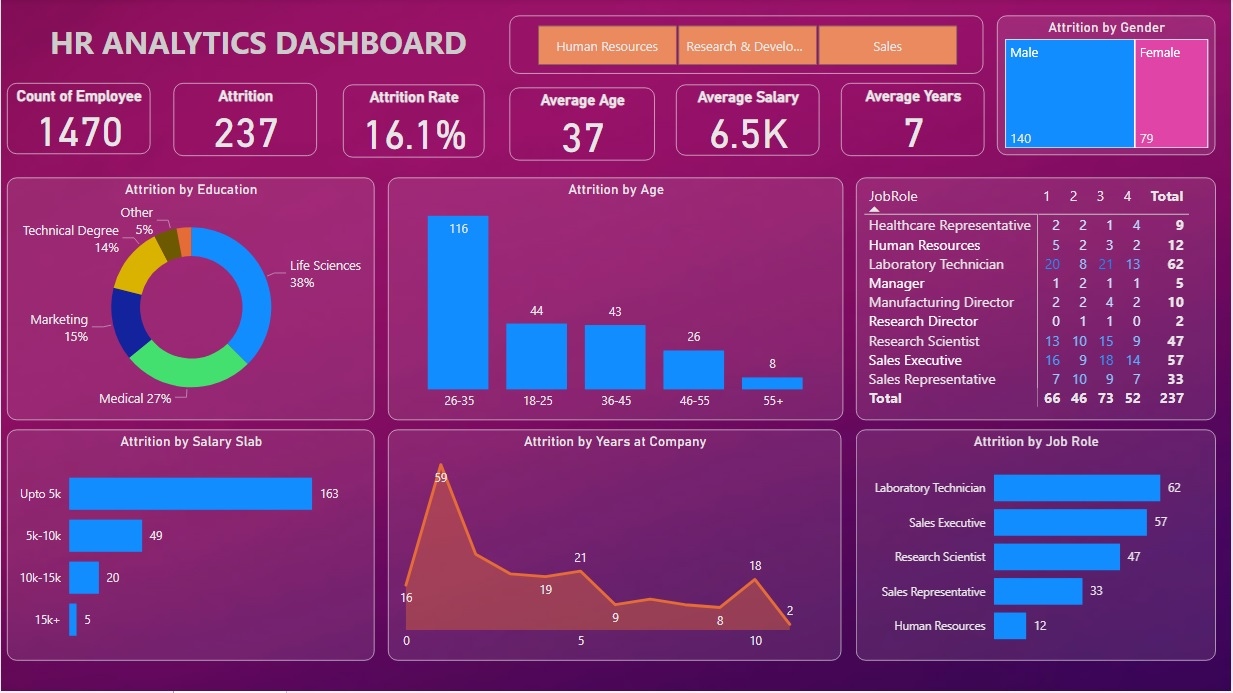

The page's visual inventory and layout, read from the dashboard file:
{"tool":"powerbi","page":{"name":"Page 1","canvas":[1280,720],"ordinal":0},"visuals":[{"type":"card","title":"Count of Employee","fields":{"Values":["CountNonNull(HR_Analytics.EmpID)"]},"box":[6,87.6,149.4,73.7],"z":0},{"type":"card","title":"Attrition","fields":{"Values":["Sum(HR_Analytics.AttritionCount)"]},"box":[179.3,87.6,149.4,75.7],"z":1000},{"type":"card","title":"Attrition Rate","fields":{"Values":["HR_Analytics.AttritionRate"]},"box":[356.5,89.6,147.4,75.7],"z":2000},{"type":"card","title":"Average Age","fields":{"Values":["Avg(HR_Analytics.Age)"]},"box":[529.8,91.6,151.4,75.7],"z":3000},{"type":"card","title":"Average Salary","fields":{"Values":["Avg(HR_Analytics.MonthlyIncome)"]},"box":[703.1,89.6,149.4,73.7],"z":4000},{"type":"card","title":"Average Years","fields":{"Values":["Avg(HR_Analytics.YearsAtCompany)"]},"box":[874.4,87.6,149.4,75.7],"z":5000},{"type":"donutChart","title":"Attrition by Education","fields":{"Category":["HR_Analytics.EducationField"],"Y":["Sum(HR_Analytics.AttritionCount)"]},"box":[6,185.2,382.4,253],"z":6000},{"type":"columnChart","title":"Attrition by Age","fields":{"Category":["HR_Analytics.AgeGroup"],"Y":["Sum(HR_Analytics.AttritionCount)"]},"box":[402.3,185.2,474,253],"z":7000},{"type":"pivotTable","fields":{"Columns":["HR_Analytics.JobSatisfaction"],"Rows":["HR_Analytics.JobRole"],"Values":["Sum(HR_Analytics.AttritionCount)"]},"box":[890.3,185.2,374.4,253],"z":8000},{"type":"barChart","title":"Attrition by Salary Slab","fields":{"Category":["HR_Analytics.SalarySlab"],"Y":["Sum(HR_Analytics.AttritionCount)"]},"box":[6,448.1,382.4,241],"z":9000},{"type":"barChart","title":"Attrition by Job Role","fields":{"Category":["HR_Analytics.JobRole"],"Y":["Sum(HR_Analytics.AttritionCount)"]},"box":[890.3,448.1,374.4,241],"z":10000},{"type":"areaChart","title":"Attrition by Years at Company","fields":{"Category":["HR_Analytics.YearsAtCompany"],"Y":["Sum(HR_Analytics.AttritionCount)"]},"box":[402.3,448.1,472,241],"z":11000},{"type":"treemap","title":"Attrition by Gender","fields":{"Group":["HR_Analytics.Gender"],"Values":["Sum(HR_Analytics.AttritionCount)"]},"box":[1037.7,17.9,227.1,145.4],"z":12000},{"type":"slicer","fields":{"Values":["HR_Analytics.Department"]},"box":[529.5,17.2,493.5,60.9],"z":13000},{"type":"textbox","box":[6.2,17.2,523.2,59.3],"z":14000}]}

Visuals, with their boxes in screenshot pixels (x1, y1, x2, y2), scaled from the page's 1280x720 canvas onto the 1233x693 screenshot:
"Count of Employee" card: pyautogui.locateOnScreen(6, 84, 150, 155)
"Attrition" card: pyautogui.locateOnScreen(173, 84, 317, 157)
"Attrition Rate" card: pyautogui.locateOnScreen(343, 86, 485, 159)
"Average Age" card: pyautogui.locateOnScreen(510, 88, 656, 161)
"Average Salary" card: pyautogui.locateOnScreen(677, 86, 821, 157)
"Average Years" card: pyautogui.locateOnScreen(842, 84, 986, 157)
"Attrition by Education" donutChart: pyautogui.locateOnScreen(6, 178, 374, 422)
"Attrition by Age" columnChart: pyautogui.locateOnScreen(388, 178, 844, 422)
pivotTable - HR_Analytics.JobSatisfaction x HR_Analytics.JobRole: pyautogui.locateOnScreen(858, 178, 1218, 422)
"Attrition by Salary Slab" barChart: pyautogui.locateOnScreen(6, 431, 374, 663)
"Attrition by Job Role" barChart: pyautogui.locateOnScreen(858, 431, 1218, 663)
"Attrition by Years at Company" areaChart: pyautogui.locateOnScreen(388, 431, 842, 663)
"Attrition by Gender" treemap: pyautogui.locateOnScreen(1000, 17, 1218, 157)
slicer - HR_Analytics.Department: pyautogui.locateOnScreen(510, 17, 985, 75)
textbox: pyautogui.locateOnScreen(6, 17, 510, 74)
